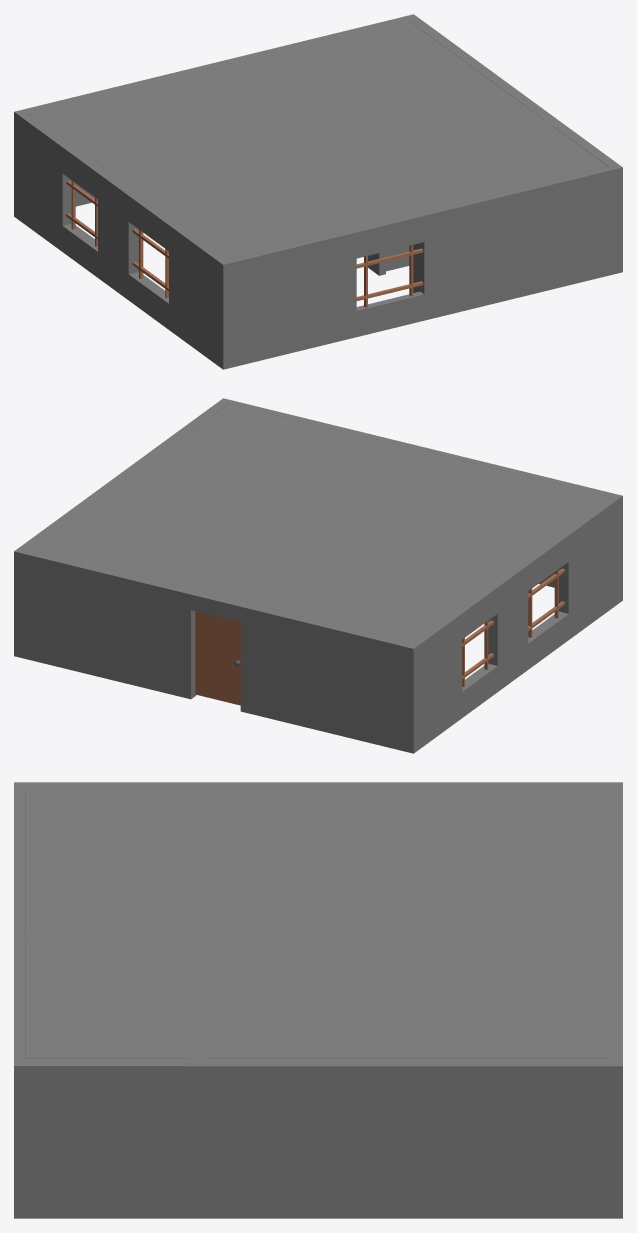
File: Studio Apartment.fbx
3 views of the same model, one above another, from view 1: azimuth 30°, elevation 25°; view 2: azimuth 150°, elevation 25°; view 3: azimuth 270°, elevation 25° (orthographic). The views are drawn at different scales.
Parts seen in each view (by area): view 1: Ceiling, Apartment, Window 2, Window 3, Window 4; view 2: Ceiling, Apartment, Door, Window 3, Window 4; view 3: Ceiling, Apartment.
Boxes of the visible parts, x1,y1,x2,y2 form: Ceiling: (30,20,607,259); Apartment: (14,14,622,369); Window 2: (356,245,423,307); Window 3: (132,229,168,298); Window 4: (66,180,97,246); Ceiling: (30,404,607,642); Apartment: (14,398,622,753); Door: (195,611,240,705); Window 3: (528,568,564,637); Window 4: (462,620,493,686); Ceiling: (26,790,607,1058); Apartment: (14,782,622,1218).
Bounding box in the file's own units: 980 × 246 × 889.
